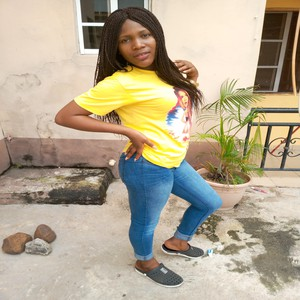Fulokoja_female_student: (104, 11, 202, 276)
